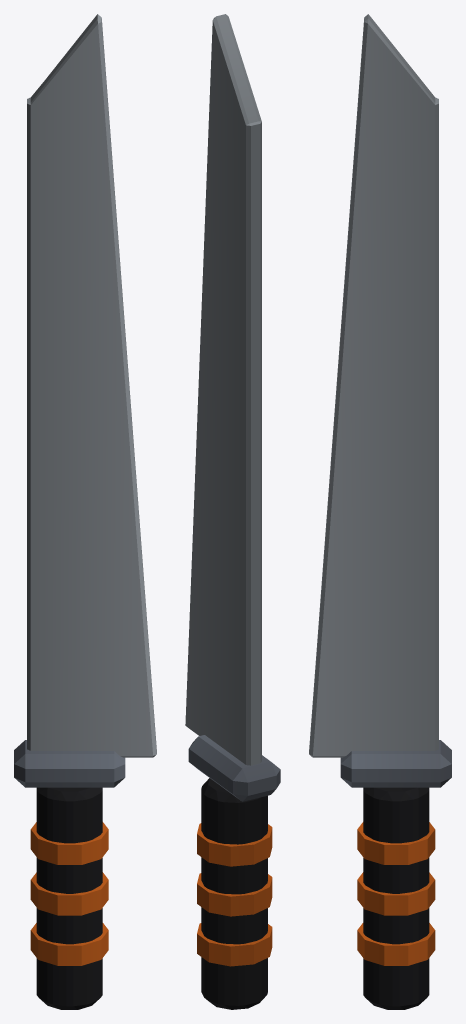
Rendered from machete.glb.
3 renders of one model, left to right at view 1: azimuth 90°, elevation 25°; view 2: azimuth 210°, elevation 25°; view 3: azimuth 270°, elevation 25°, orthographic.
Parts seen in each view (by area): view 1: machete; view 2: machete; view 3: machete.
Boxes of the visible parts, <box> form: machete: <box>14,14,156,1009</box>; machete: <box>185,14,280,1009</box>; machete: <box>309,14,451,1009</box>.
Size of the model in its own units: 0.0399 by 0.585 by 0.077.
